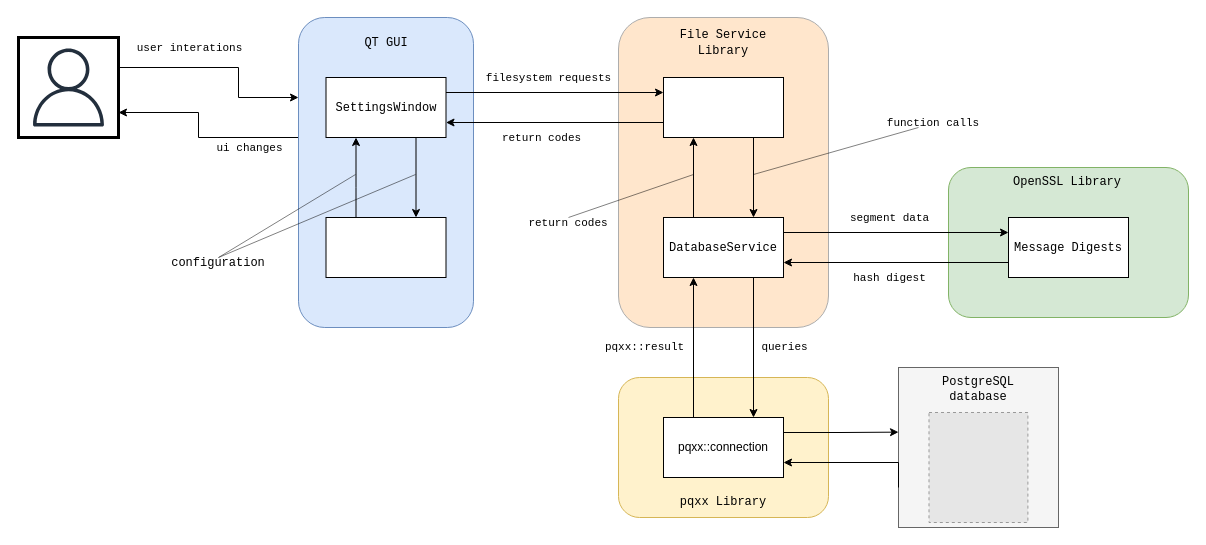
Some shapes in this 1206 by 545 pixel diagram are drawn without their labels. Grey dashed boxes stand in for pictures. The shapes that lost their labels are listed below. From the top down, each one's box as (x1, y1, x2, y2) in pixels, then its label:
(662, 76, 784, 138): FileService
(325, 216, 446, 278): MainWindow
